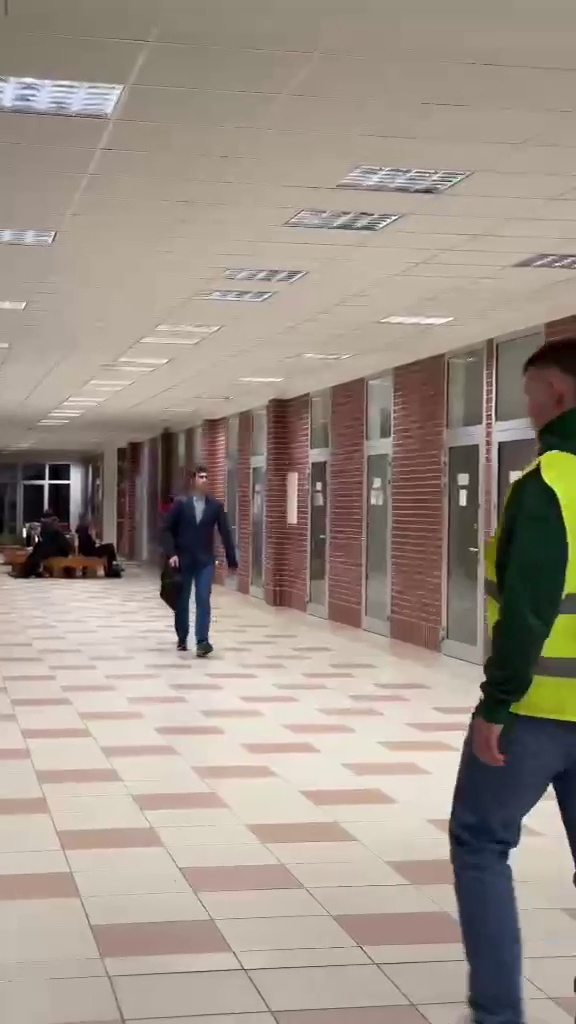no vest: (150, 461, 236, 651)
vest: (441, 329, 576, 1016)
